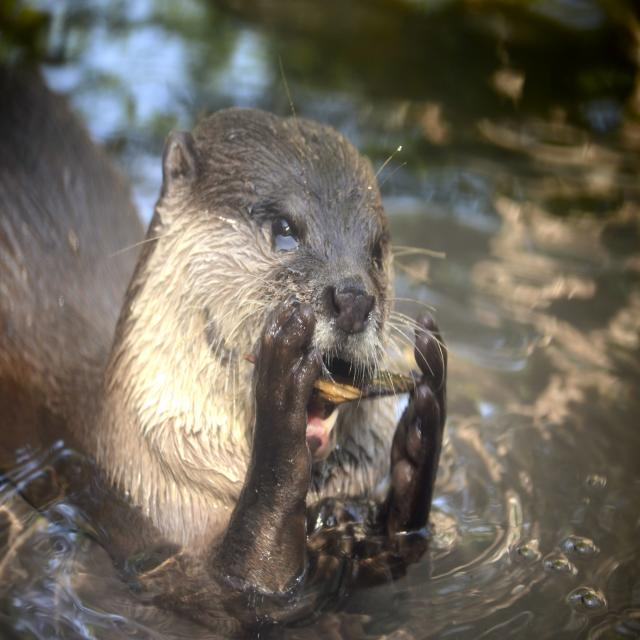otter: (101, 109, 402, 550)
